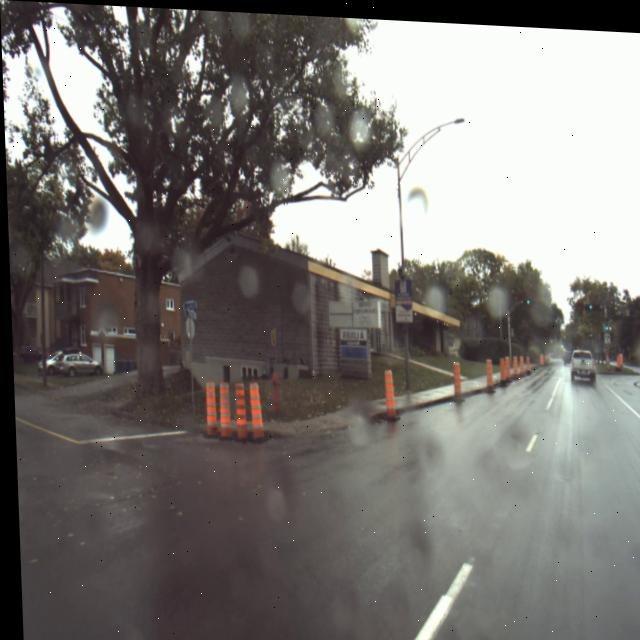car: (55, 352, 98, 380), (567, 343, 593, 381), (34, 350, 60, 375)
trafficLight-Green: (585, 298, 592, 305), (524, 293, 529, 300), (602, 319, 607, 325)
